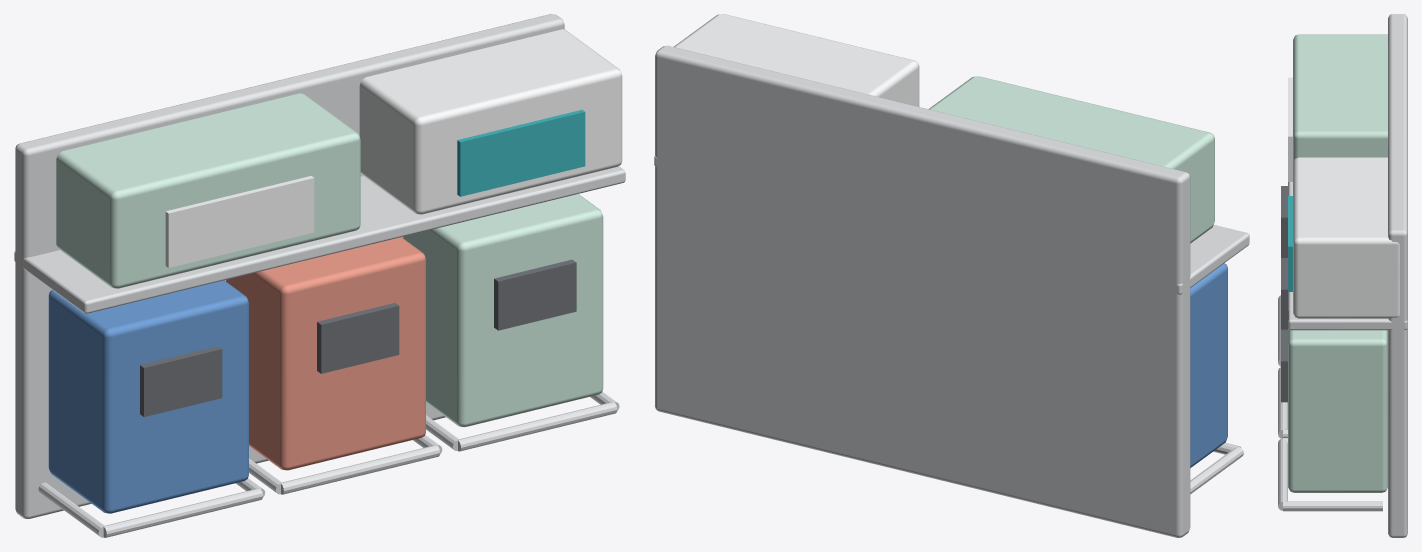
Rendered from glove-and-mask-dispenser.glb.
3 renders of one model, left to right at view 1: azimuth 30°, elevation 25°; view 2: azimuth 150°, elevation 25°; view 3: azimuth 270°, elevation 25°, orthographic. The views are drawn at different scales.
Visible parts, largest first — view 1: glove-and-mask-dispenser; view 2: glove-and-mask-dispenser; view 3: glove-and-mask-dispenser.
Boxes of the visible parts, box(x1,y1,x2,y2) form: glove-and-mask-dispenser: box(14, 14, 625, 537); glove-and-mask-dispenser: box(654, 14, 1249, 537); glove-and-mask-dispenser: box(1278, 14, 1407, 537).
Bounding box in the file's own units: 0.5212 × 0.34 × 0.13.
